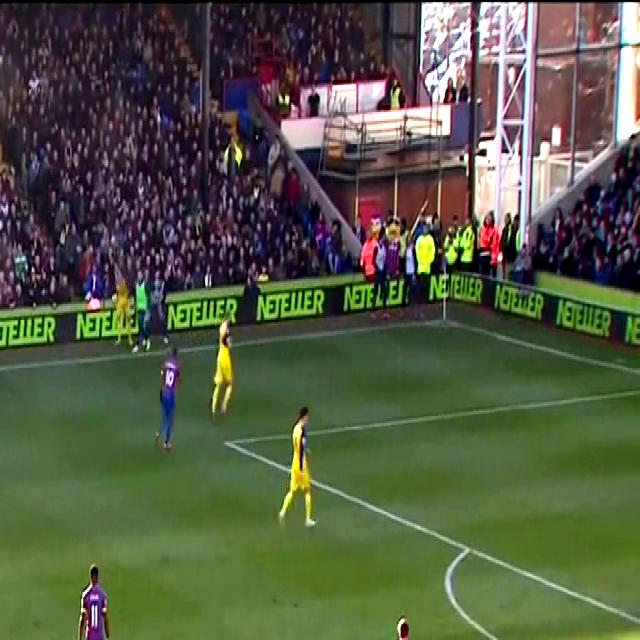soccer-player: (278, 398, 330, 534), (65, 562, 123, 640), (206, 296, 242, 420), (148, 341, 183, 458), (378, 611, 429, 640)
